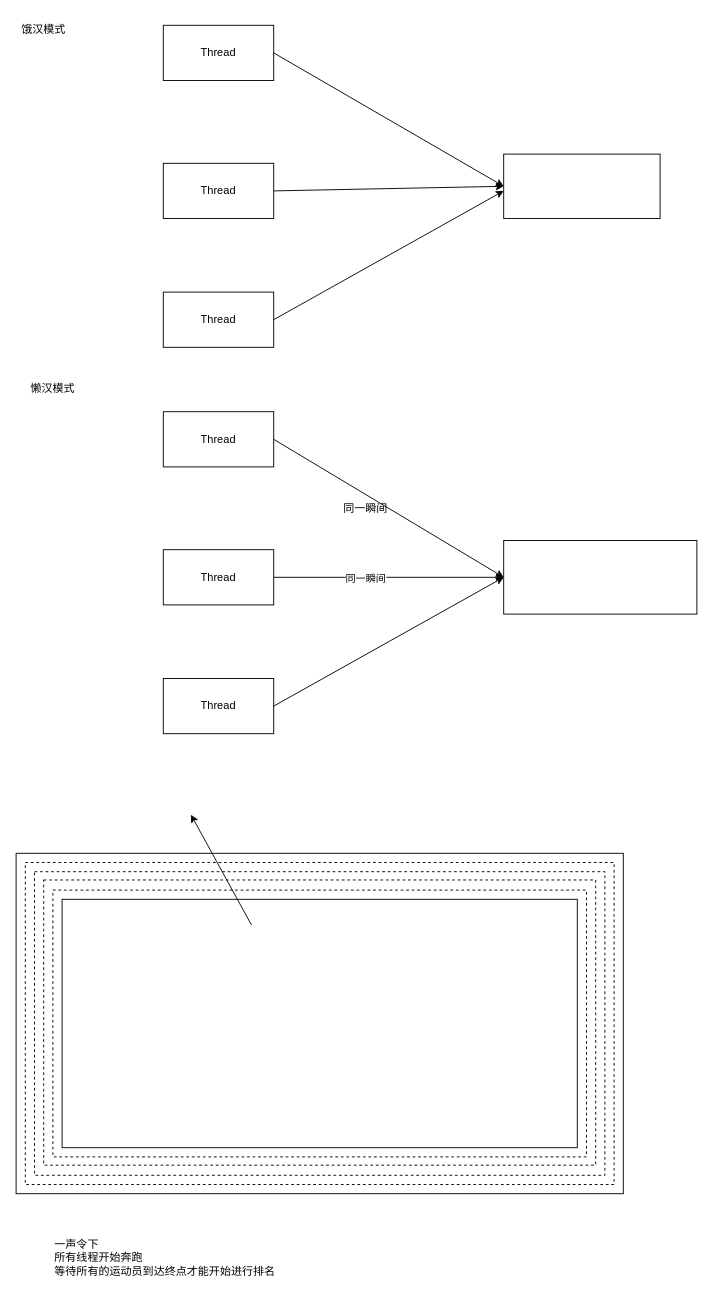
Some shapes in this 713 by 1301 pixel diagram are drawn without their labels. The shapes that lost their labels are listed below. From the top down, each one's centre as x and y in pixels, then its label:
point (581, 185): 实例 单例已存在
point (600, 577): 没有实例 产生实例的过程是动态的 必然会放到方法才能创建实例 对方法加 synchronized
